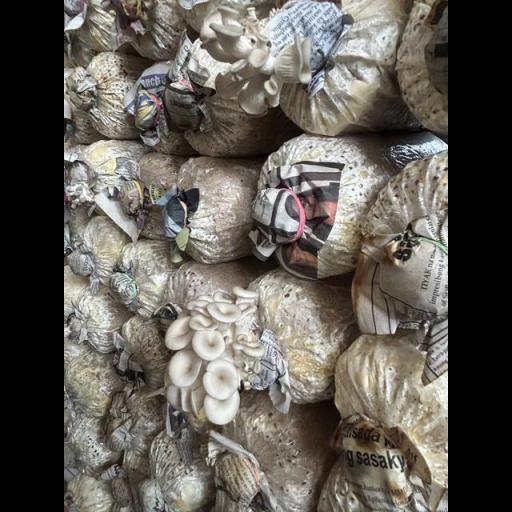White Oyster Mushroom: (159, 283, 269, 428), (192, 3, 317, 123)
